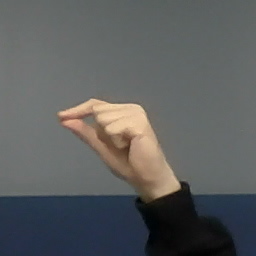S: (54, 96, 174, 182)
